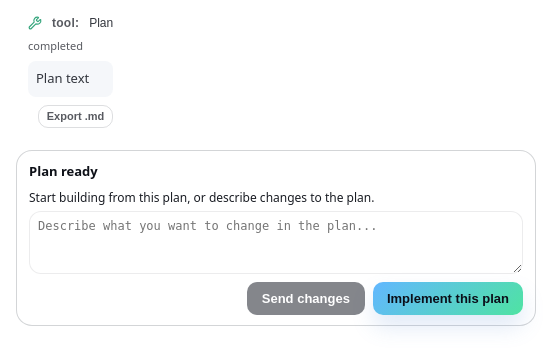
Messages › dismisses the plan-ready follow-up when the plan is accepted
This screenshot has width=553, height=348.
Click the button "Implement this plan" at (448, 298), box [373,282,523,315]
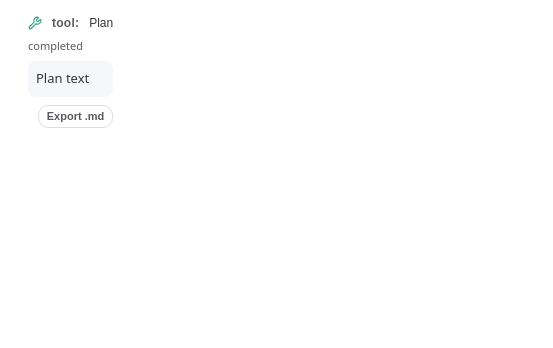
Check: the text "Plan ready" is gone
